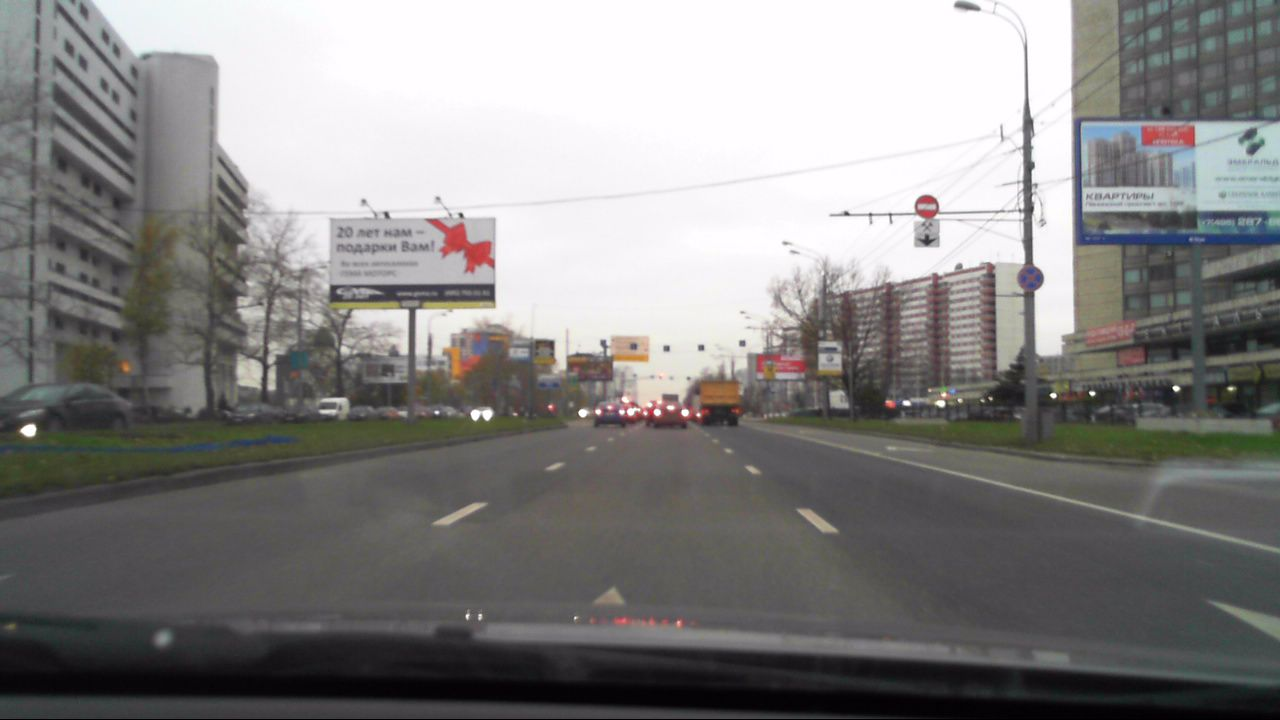No Parking: (1017, 266, 1043, 290)
